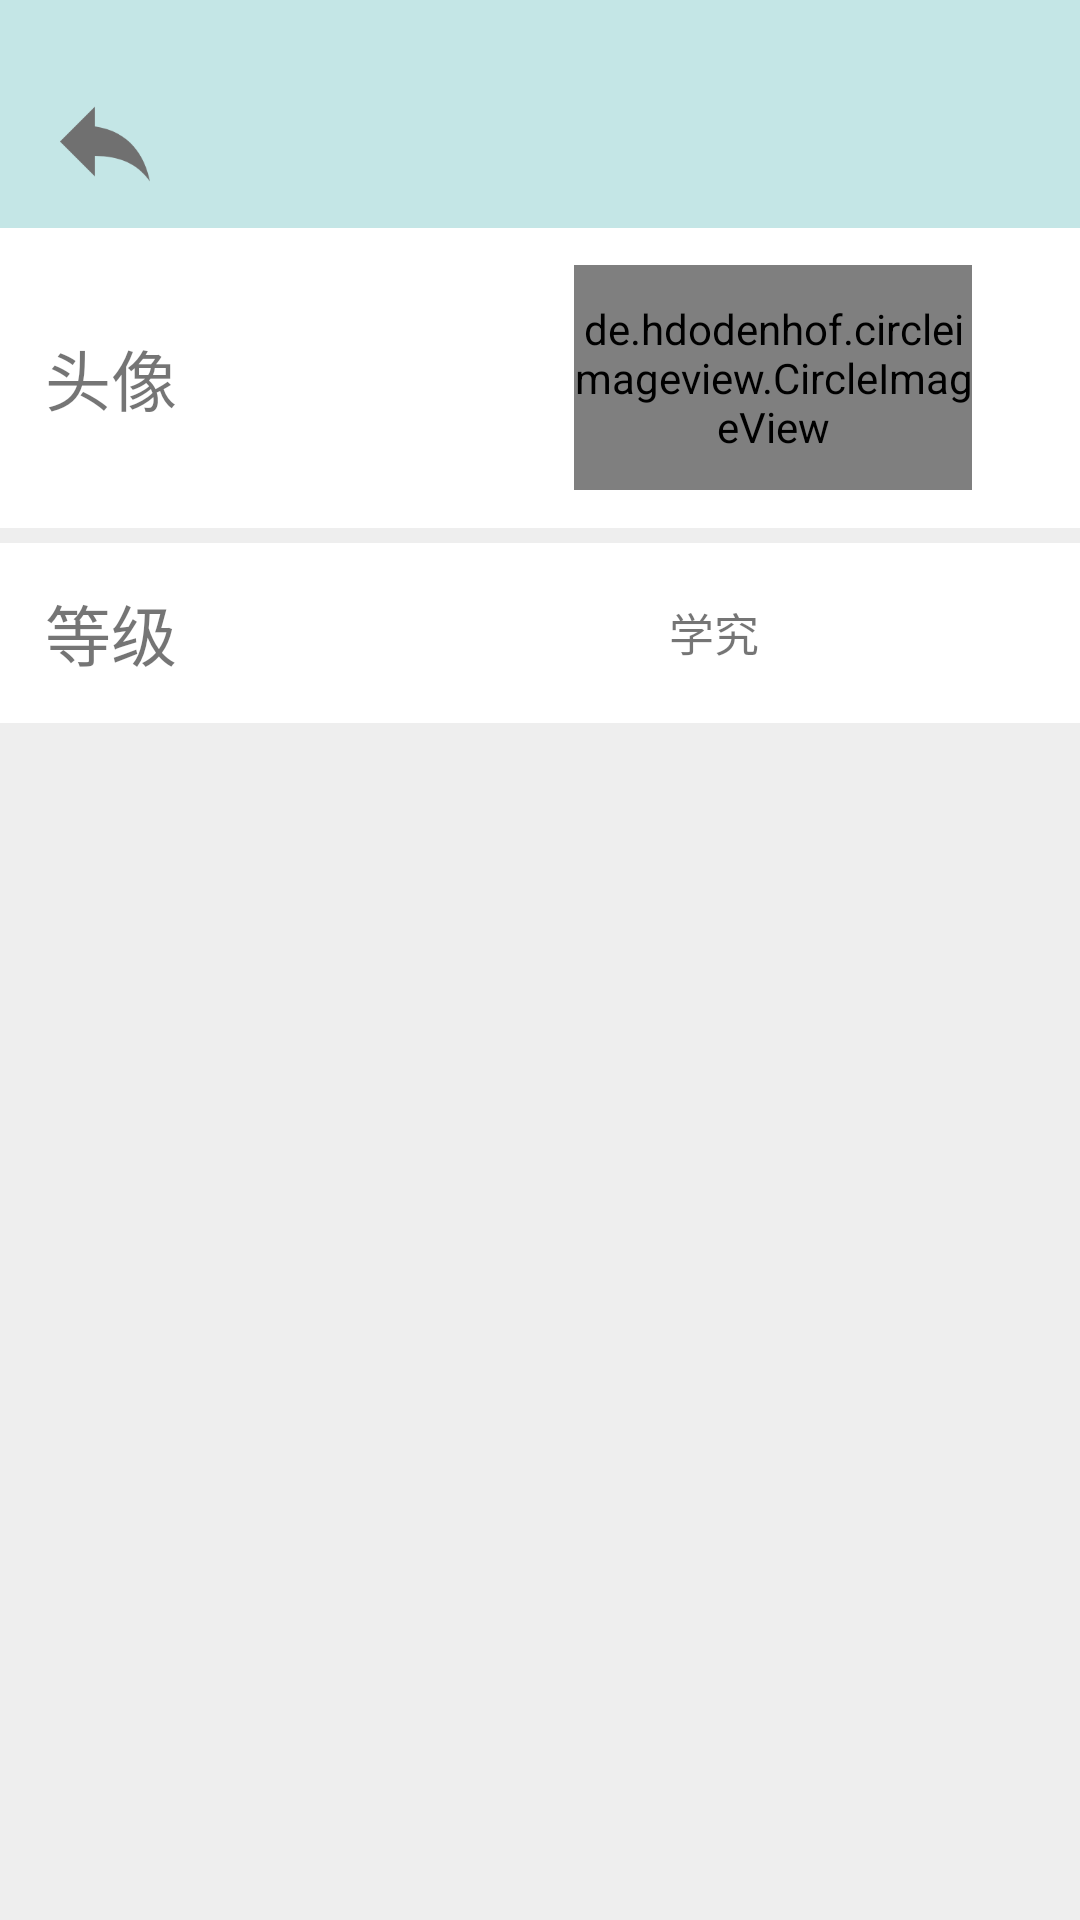

Locate icon controls on the screen. Image size 1080w x 1920h, boxes as bbox=[x1, y1, x2, y2].
back all: bbox=[60, 107, 150, 181]
